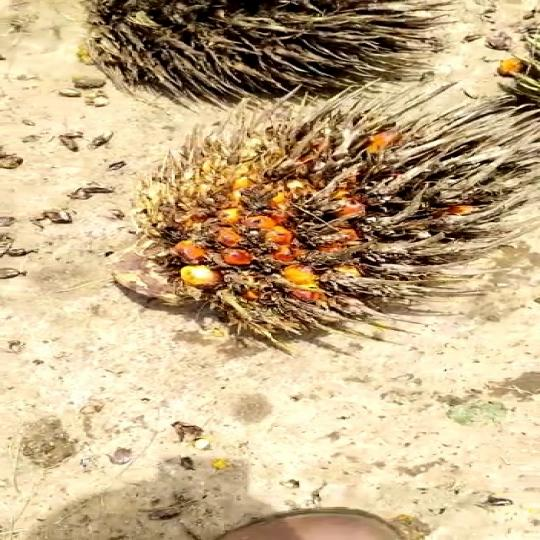terlalu masak: (77, 98, 532, 353), (66, 0, 451, 98)
